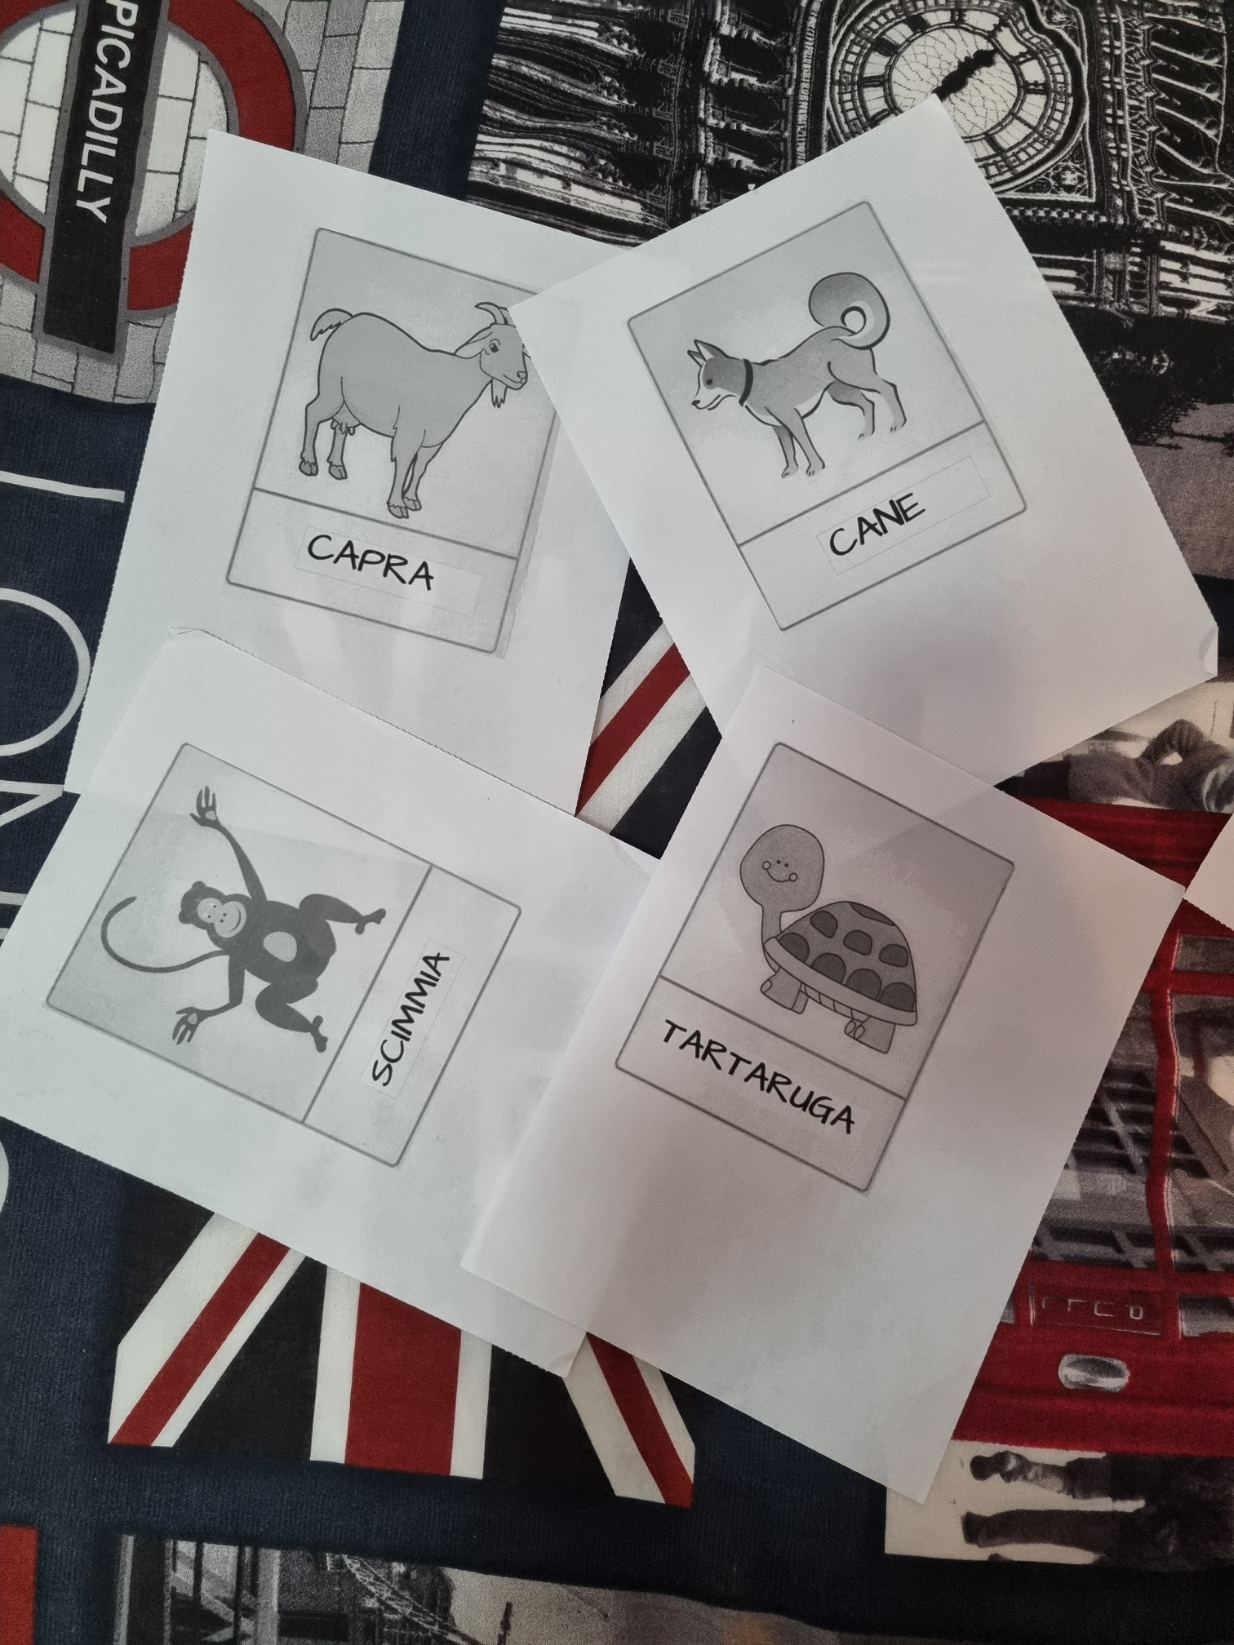cane: (663, 261, 972, 611)
capra: (272, 260, 534, 622)
scimmia: (101, 770, 455, 1173)
tartaruga: (651, 792, 930, 1198)
